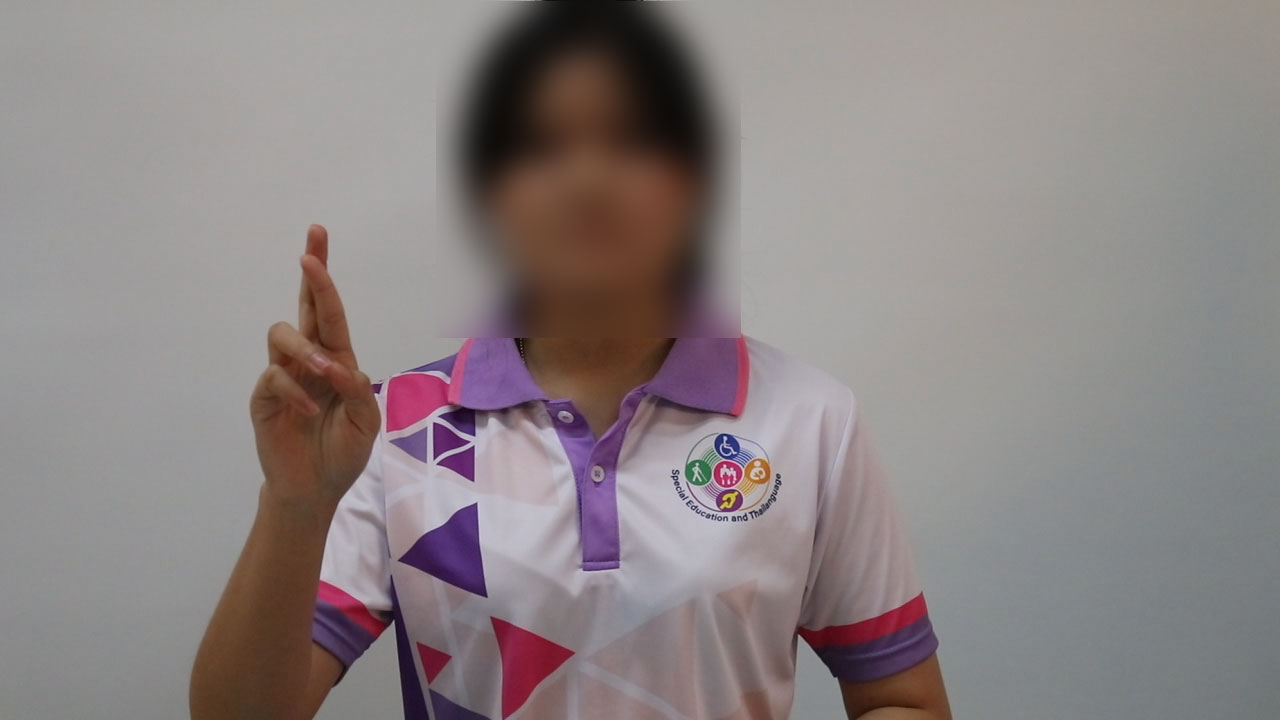rao: (217, 216, 389, 514)
